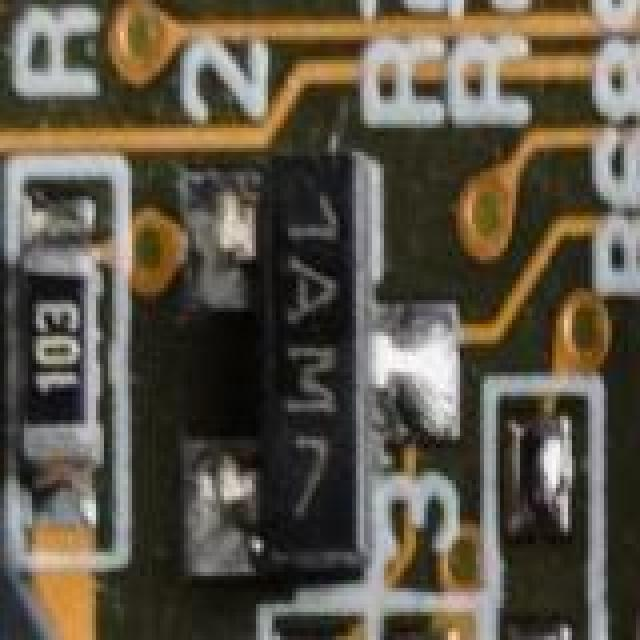resistor: (4, 196, 116, 516)
transistor: (160, 124, 472, 580)
